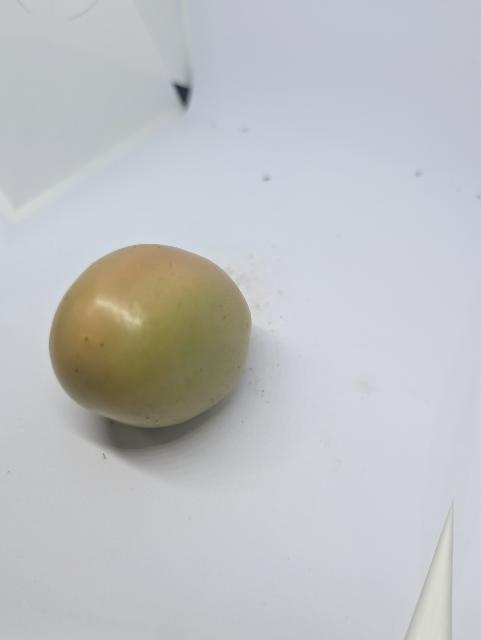breaker: (46, 243, 255, 430)
